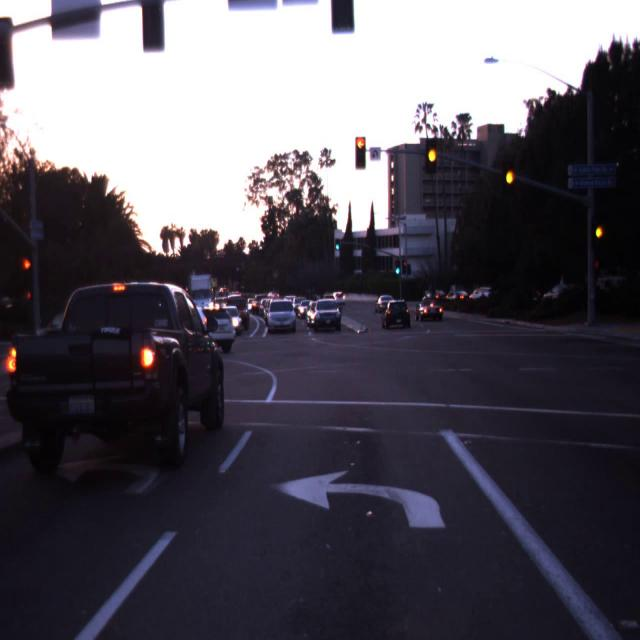arka_lamba: (142, 1, 164, 50), (332, 2, 353, 32)
kirmizi: (355, 136, 366, 170)
sari: (426, 139, 437, 174), (504, 162, 514, 192)
